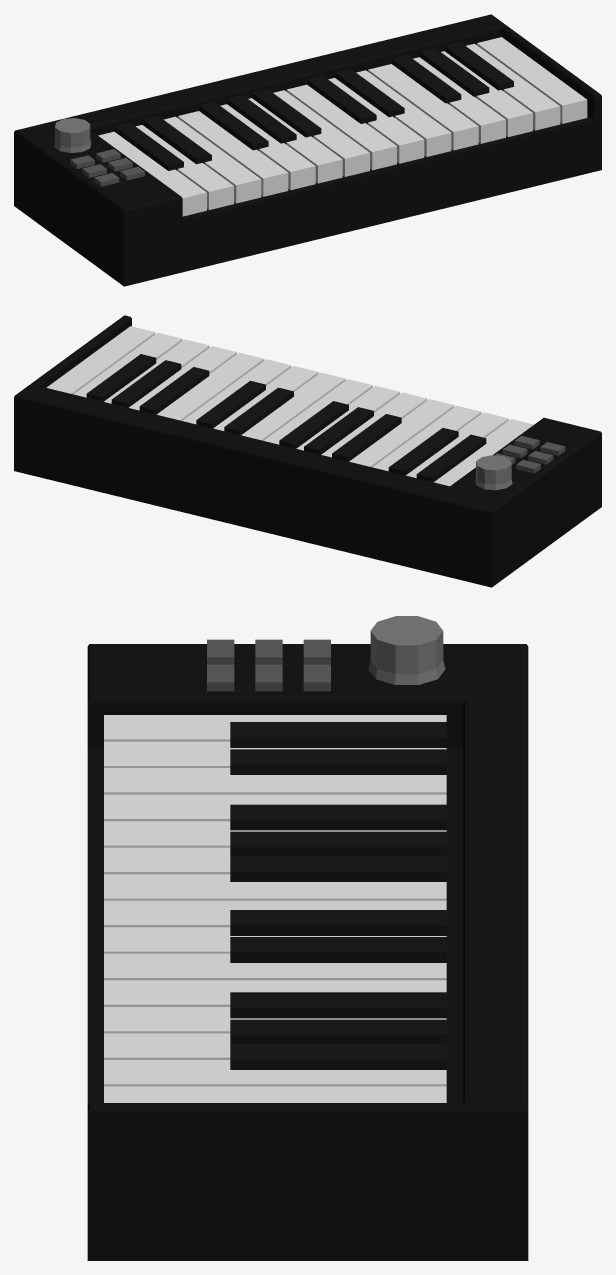
The model's file is Midi Keyboard16.fbx.
3 views of the same model, one above another, from view 1: azimuth 30°, elevation 25°; view 2: azimuth 150°, elevation 25°; view 3: azimuth 270°, elevation 25° (orthographic). The views are drawn at different scales.
Visible parts, largest first — view 1: 49keysmidi.017; view 2: 49keysmidi.017; view 3: 49keysmidi.017.
Part boxes in pixels (<box>): 49keysmidi.017: <box>14,14,601,286</box>; 49keysmidi.017: <box>14,315,601,587</box>; 49keysmidi.017: <box>87,616,528,1260</box>.
Bounding box in the file's own units: 40.84 × 7.81 × 16.32.
